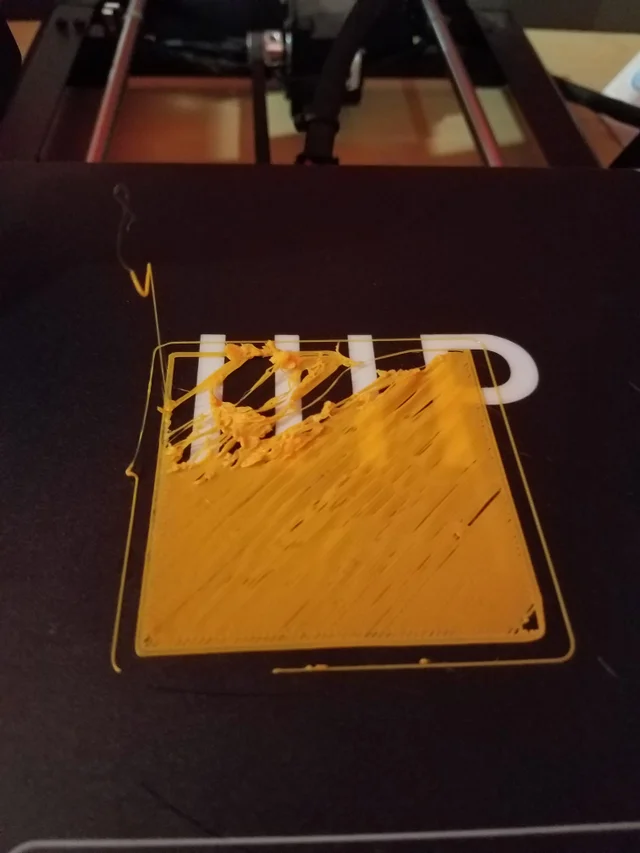Spaghetti: (117, 257, 569, 703)
